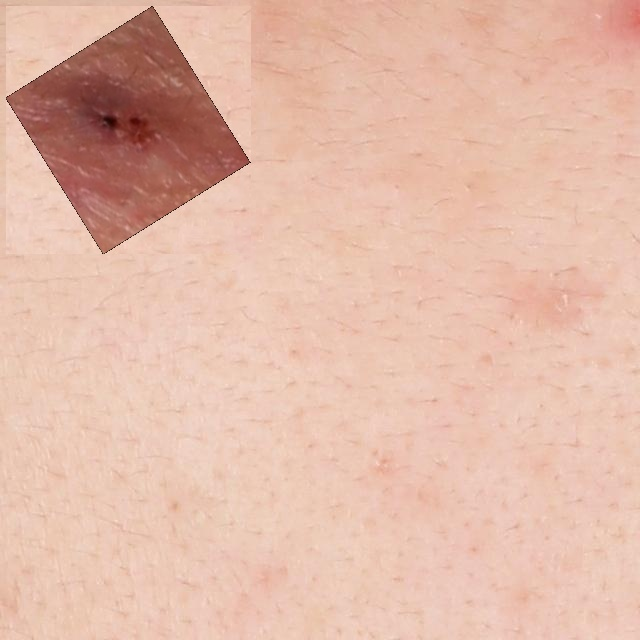nodule: (17, 17, 239, 243)
